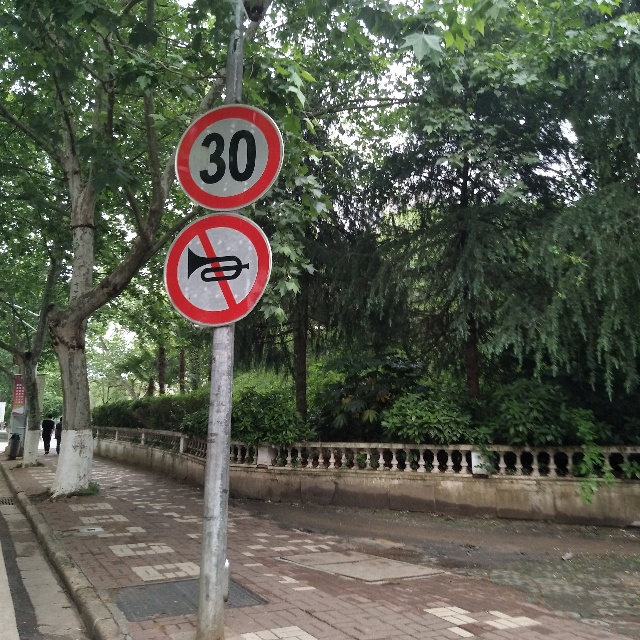nohonk: (178, 223, 262, 311)
